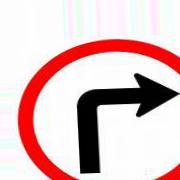right: (17, 38, 180, 180)
